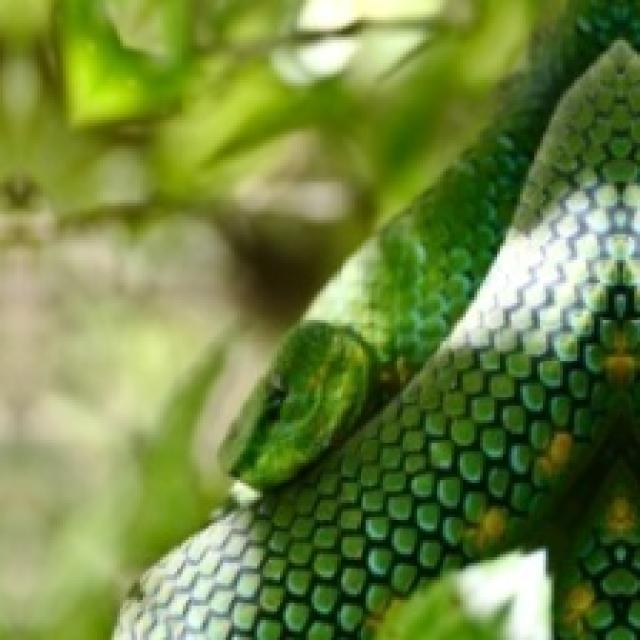philippine pitviper: (120, 0, 637, 637)
